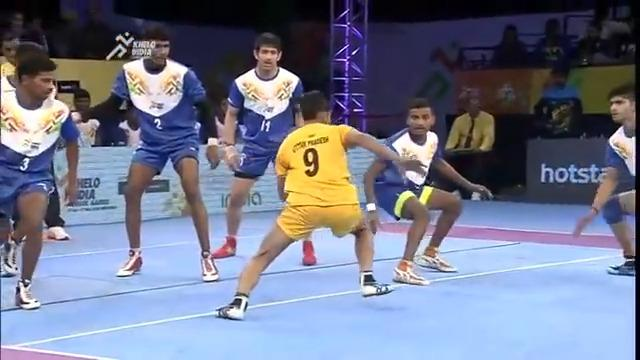Player: (110, 24, 221, 282), (210, 30, 316, 262), (0, 47, 81, 310), (385, 88, 462, 298), (578, 91, 634, 245)
Raider: (213, 88, 426, 320)
referee: (443, 85, 496, 200)
